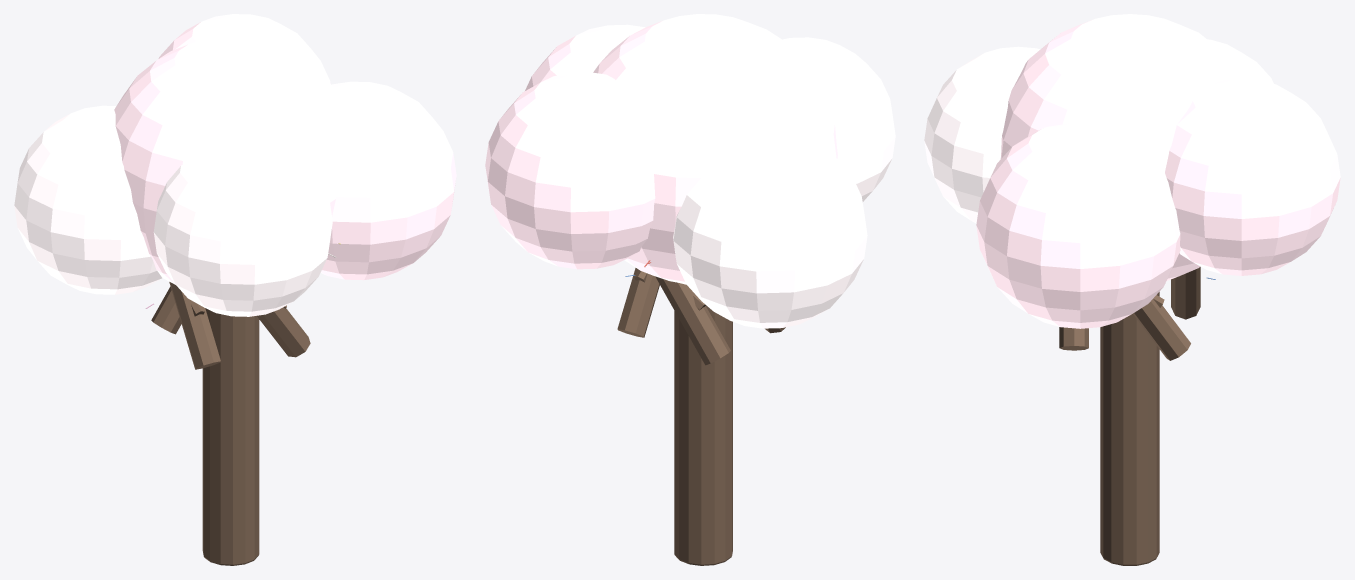
File: wishing_tree.glb
The picture shows the model from 3 angles, left to right: view 1: azimuth 30°, elevation 25°; view 2: azimuth 150°, elevation 25°; view 3: azimuth 270°, elevation 25°; orthographic projection. The views are drawn at different scales.
Parts seen in each view (by area): view 1: wishing_tree; view 2: wishing_tree; view 3: wishing_tree.
Part boxes in pixels (x1,y1,x2,y2): wishing_tree: [14, 14, 456, 565]; wishing_tree: [485, 14, 895, 565]; wishing_tree: [924, 14, 1340, 565].
Size of the model in its own units: 1.77 by 2.35 by 1.68.
